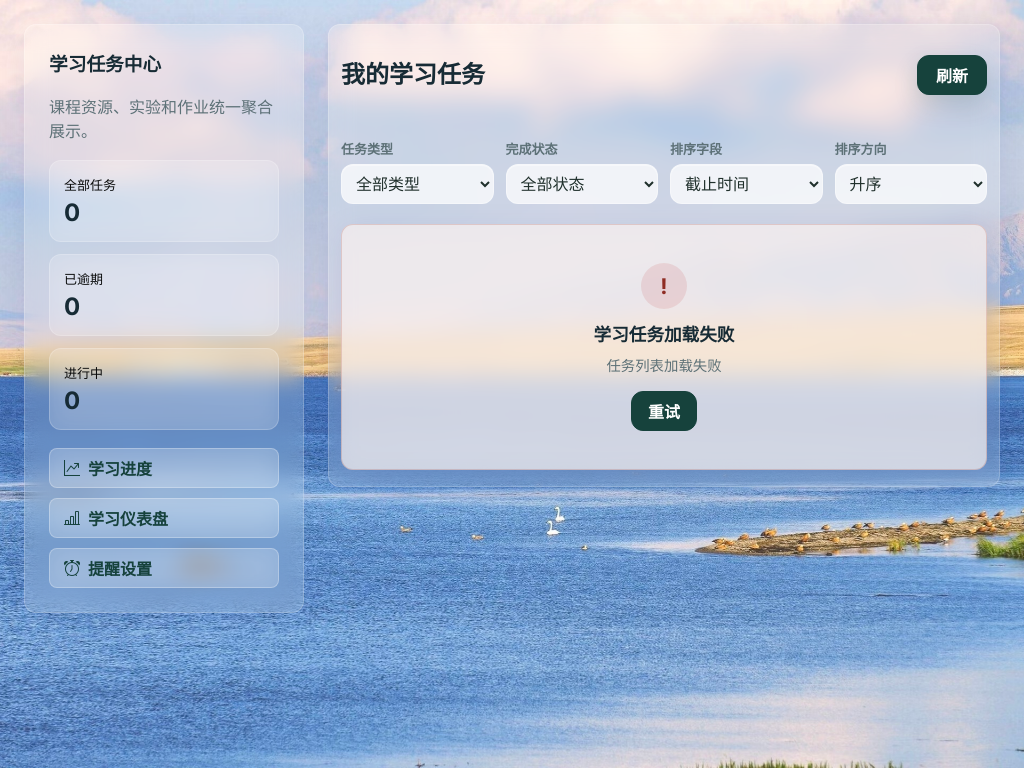
Test case: LearningTaskCenterView › shows loading failures and retries the task query
Click the button with test id "retry-tasks". click: [664, 411]
box: [631,391,697,431]
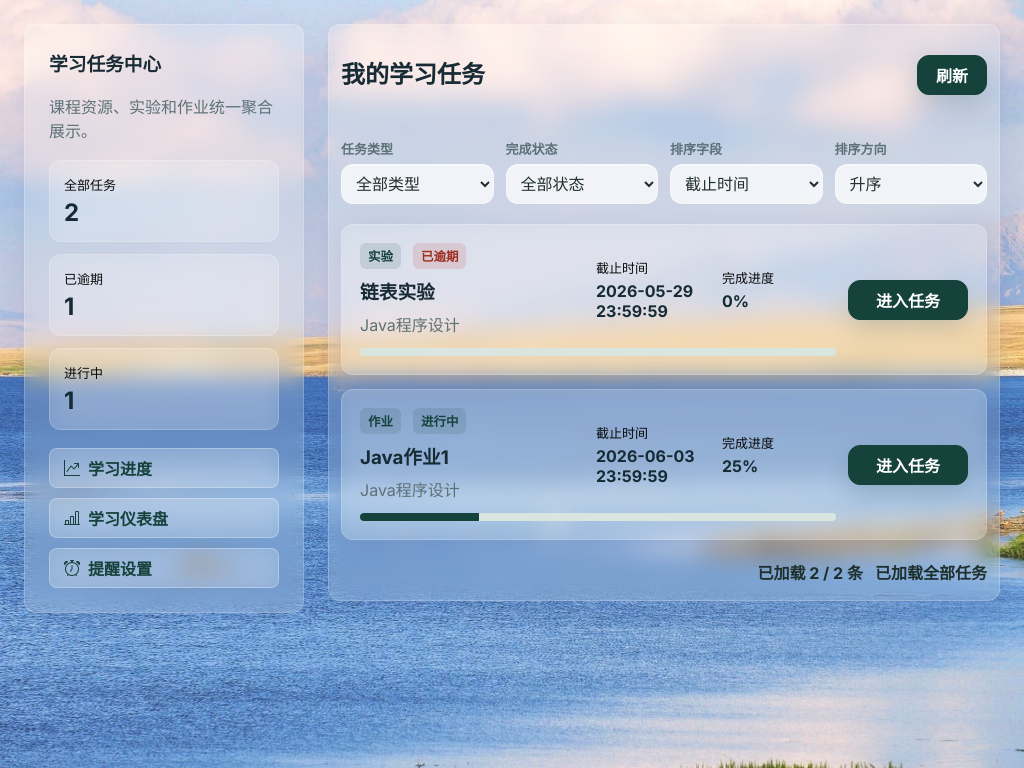
Expected: the text "Java作业1" is shown, [360,446,449,469]
